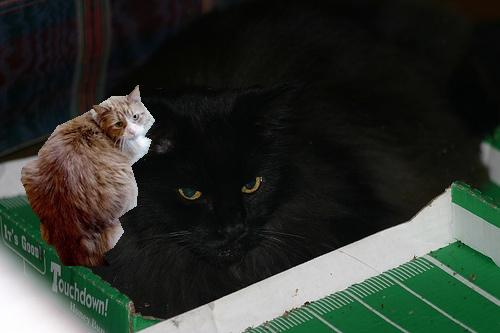tampered: (21, 86, 155, 266)
